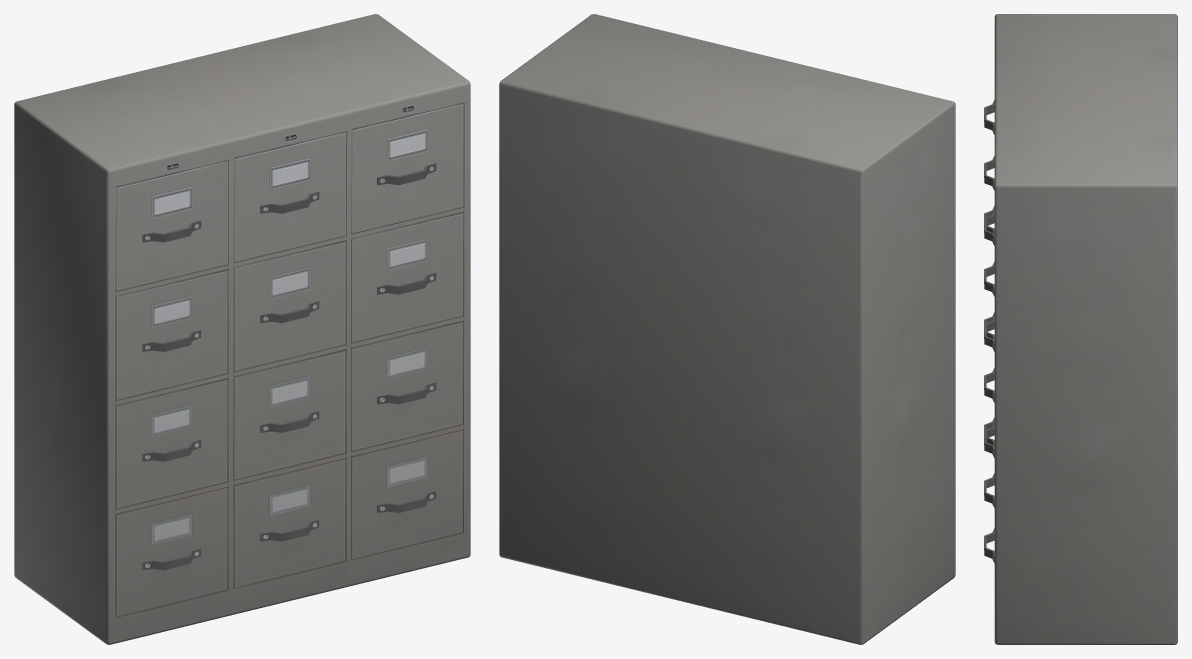
File: locker1.FBX
3 views of the same model, side by side, from view 1: azimuth 30°, elevation 25°; view 2: azimuth 150°, elevation 25°; view 3: azimuth 270°, elevation 25° (orthographic). The views are drawn at different scales.
Visible parts, largest first — view 1: locker1; view 2: locker1; view 3: locker1.
Boxes of the visible parts, x1=… form: locker1: x1=14, y1=14, x2=470, y2=644; locker1: x1=499, y1=14, x2=955, y2=644; locker1: x1=984, y1=14, x2=1177, y2=644.
Size of the model in its own units: 40 by 19.05 by 50.
